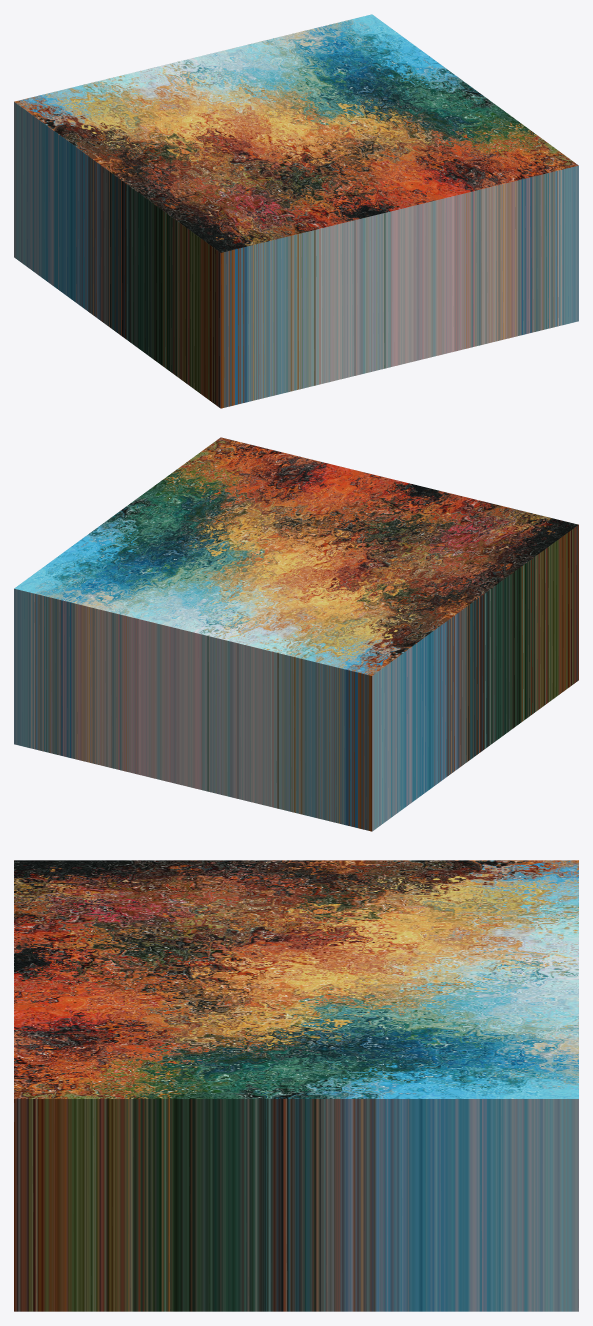
The model's file is half_cube.glb.
The picture shows the model from 3 angles, top to bottom: view 1: azimuth 30°, elevation 25°; view 2: azimuth 150°, elevation 25°; view 3: azimuth 270°, elevation 25°; orthographic projection. The views are drawn at different scales.
Parts seen in each view (by area): view 1: Grid; view 2: Grid; view 3: Grid.
Part boxes in pixels (bbox=[...]): Grid: bbox=[14, 14, 578, 408]; Grid: bbox=[14, 437, 578, 831]; Grid: bbox=[14, 860, 578, 1311].
Size of the model in its own units: 2 by 0.8303 by 2.
Materials: 1 (1 with a texture image).
